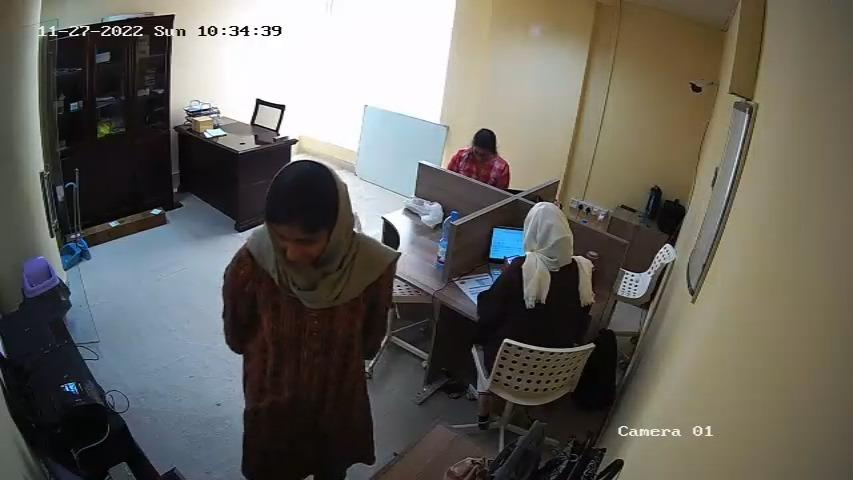no_apron: (238, 274, 363, 451)
